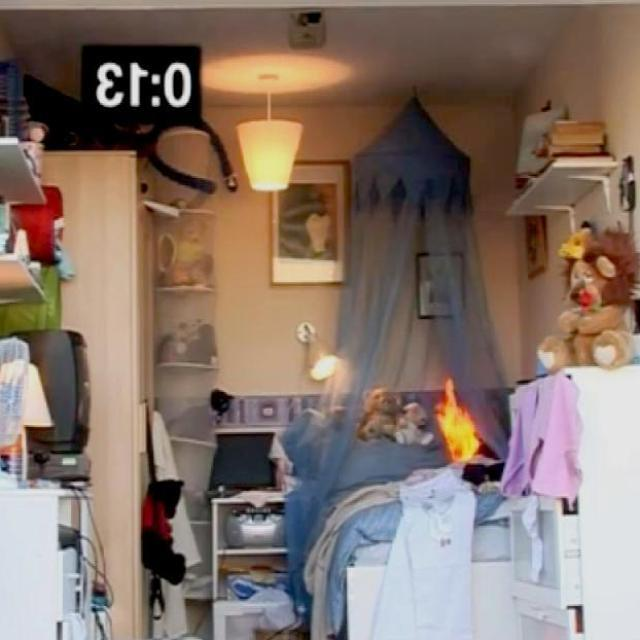smoke: (431, 373, 482, 468)
